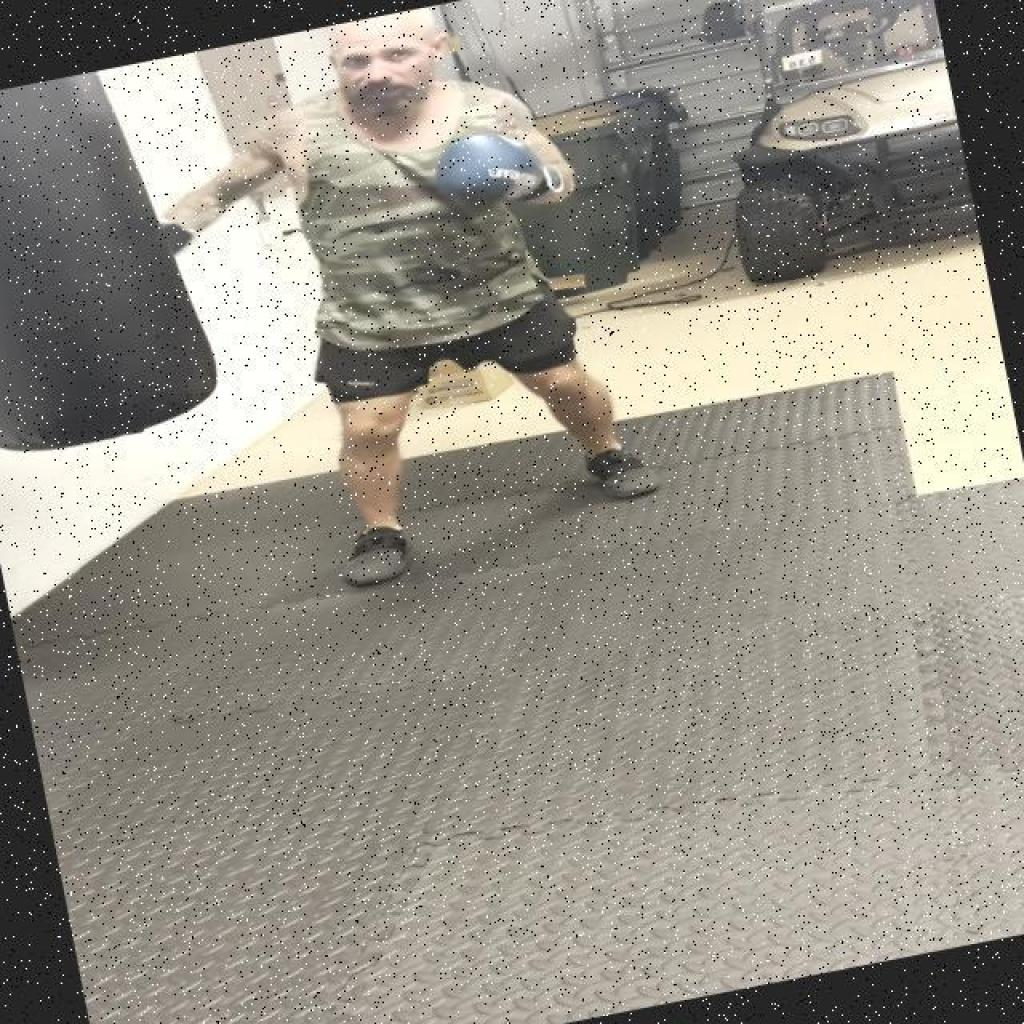bag: (2, 69, 186, 496)
hook: (68, 2, 586, 307)
